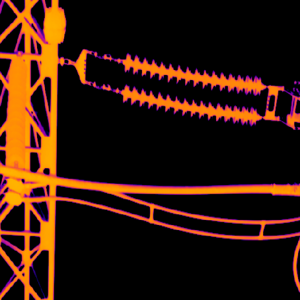insulator: (121, 53, 265, 91), (118, 85, 262, 121)
